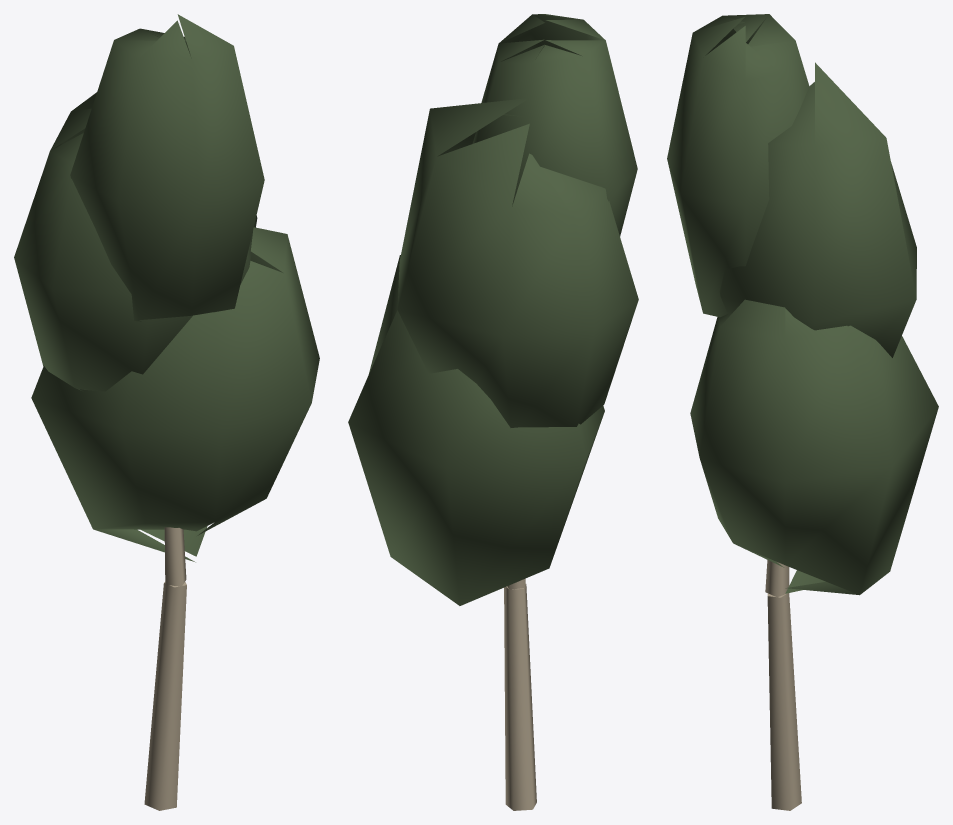
The model's file is eucalyptus-far.glb.
The picture shows the model from 3 angles, left to right: view 1: azimuth 30°, elevation 25°; view 2: azimuth 150°, elevation 25°; view 3: azimuth 270°, elevation 25°; orthographic projection. The views are drawn at different scales.
Parts seen in each view (by area): view 1: eucalyptus-far-eucalyptus, eucalyptus-far-eucalyptus-bark; view 2: eucalyptus-far-eucalyptus, eucalyptus-far-eucalyptus-bark; view 3: eucalyptus-far-eucalyptus, eucalyptus-far-eucalyptus-bark.
Part boxes in pixels (x1,y1,x2,y2): eucalyptus-far-eucalyptus: (14,14,319,562); eucalyptus-far-eucalyptus-bark: (144,527,186,810); eucalyptus-far-eucalyptus: (348,14,638,605); eucalyptus-far-eucalyptus-bark: (504,578,536,810); eucalyptus-far-eucalyptus: (667,14,938,595); eucalyptus-far-eucalyptus-bark: (765,560,801,810).
Size of the model in its own units: 7.74 by 21.81 by 6.84.
